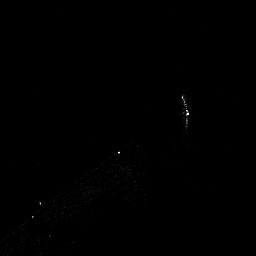ship: (180, 95, 190, 131)
